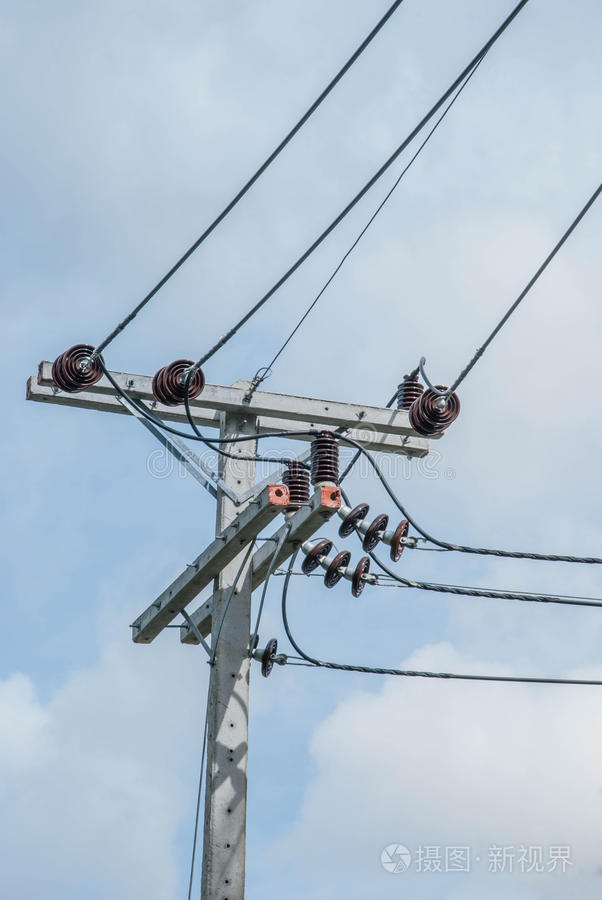insulator: (333, 502, 413, 561), (303, 541, 370, 598), (49, 341, 102, 402), (410, 383, 460, 439), (152, 359, 202, 408), (252, 631, 278, 678)
